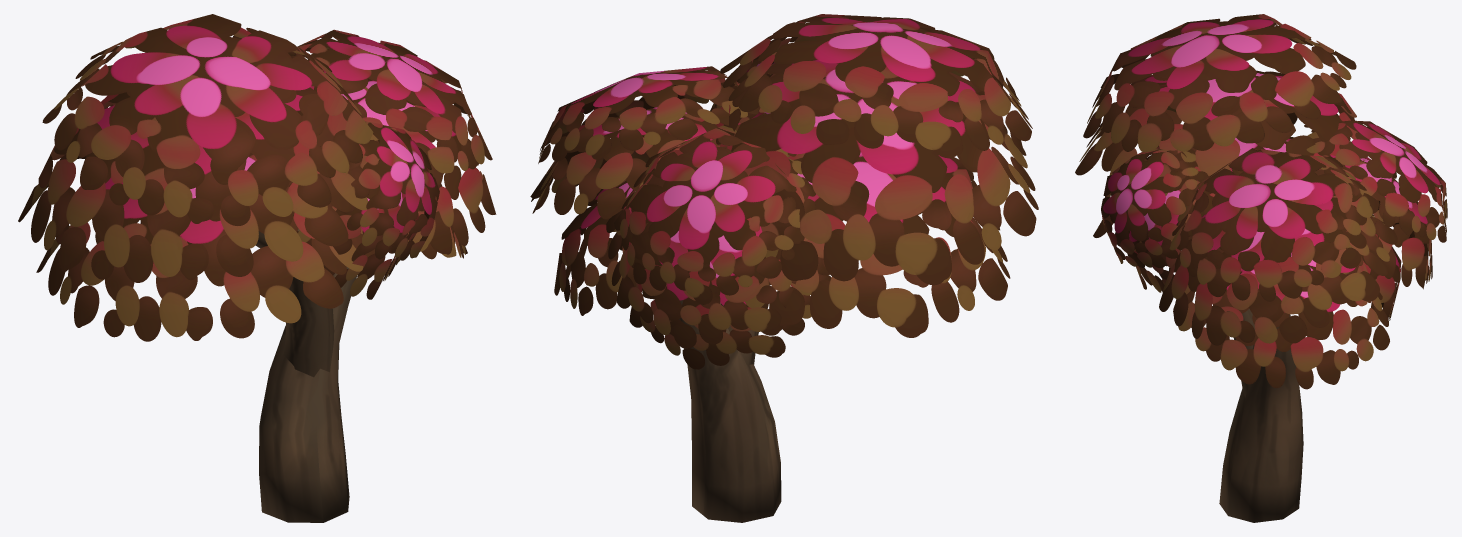
Rendered from TreePink01.fbx.
3 renders of one model, left to right at view 1: azimuth 30°, elevation 25°; view 2: azimuth 150°, elevation 25°; view 3: azimuth 270°, elevation 25°, orthographic. The views are drawn at different scales.
Visible parts, largest first — view 1: BlueLeaf.047, BlueLeaf.048, BlueLeaf.049, Log1.005, BlueLeaf.050, BlueLeaf.053, BlueLeaf.051, Branch1.005, BlueLeaf.054; view 2: BlueLeaf.048, BlueLeaf.047, BlueLeaf.044, BlueLeaf.049, Log1.005, BlueLeaf.050, BlueLeaf.045, BlueLeaf.051, BlueLeaf.052, BlueLeaf.046; view 3: BlueLeaf.047, BlueLeaf.050, BlueLeaf.051, Log1.005, BlueLeaf.052, BlueLeaf.053, BlueLeaf.044, BlueLeaf.048, BlueLeaf.045, BlueLeaf.054, BlueLeaf.046, BlueLeaf.049.
Part boxes in pixels (x1,y1,x2,y2): BlueLeaf.047: (42,14,373,225); BlueLeaf.048: (18,87,379,282); BlueLeaf.049: (36,153,374,341); Log1.005: (259,267,357,522); BlueLeaf.050: (290,29,492,173); BlueLeaf.053: (338,121,439,260); BlueLeaf.051: (296,70,496,254); Branch1.005: (255,228,334,377); BlueLeaf.054: (288,139,418,299); BlueLeaf.048: (705,60,1038,285); BlueLeaf.047: (720,14,1032,158); BlueLeaf.044: (614,125,815,304); BlueLeaf.049: (732,152,1010,337); Log1.005: (679,300,781,522); BlueLeaf.050: (538,66,760,163); BlueLeaf.045: (606,145,829,348); BlueLeaf.051: (530,107,740,219); BlueLeaf.052: (554,163,657,315); BlueLeaf.046: (619,222,831,369); BlueLeaf.047: (1083,14,1356,152); BlueLeaf.050: (1169,148,1378,301); BlueLeaf.051: (1159,195,1397,345); Log1.005: (1219,314,1303,522); BlueLeaf.052: (1169,248,1389,389); BlueLeaf.053: (1101,145,1211,267); BlueLeaf.044: (1304,120,1447,242); BlueLeaf.048: (1075,70,1396,205); BlueLeaf.045: (1285,141,1432,289); BlueLeaf.054: (1128,160,1239,292); BlueLeaf.046: (1342,234,1401,321); BlueLeaf.049: (1093,137,1394,251).
Size of the model in its own units: 572 by 584 by 475.
